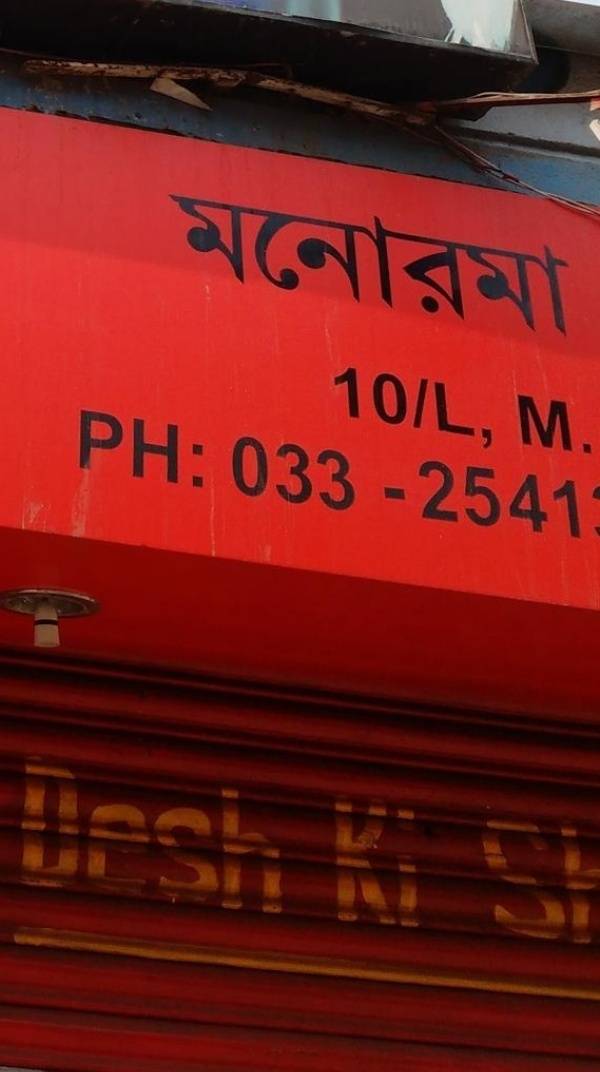text: (33, 758, 48, 929), (49, 758, 64, 929), (65, 758, 80, 929), (81, 758, 96, 929), (97, 758, 112, 929), (113, 758, 128, 929), (129, 758, 144, 929), (145, 758, 160, 929), (161, 758, 176, 929), (177, 758, 192, 929), (193, 758, 208, 929), (209, 758, 224, 929), (225, 758, 240, 929), (241, 758, 256, 929), (257, 758, 272, 929), (273, 758, 288, 929), (177, 184, 192, 340), (193, 184, 208, 340), (209, 184, 224, 340), (225, 184, 240, 340), (241, 184, 256, 340), (257, 184, 272, 340), (273, 184, 288, 340), (289, 184, 304, 340), (305, 184, 320, 340), (321, 184, 336, 340), (337, 184, 352, 340), (353, 184, 368, 340), (369, 184, 384, 340), (385, 184, 400, 340), (401, 184, 416, 340), (417, 184, 432, 340), (433, 184, 448, 340), (449, 184, 464, 340), (465, 184, 480, 340), (481, 184, 496, 340), (497, 184, 512, 340), (513, 184, 528, 340), (529, 184, 544, 340), (545, 184, 560, 340), (561, 184, 576, 340), (337, 798, 352, 937), (353, 798, 368, 937), (369, 798, 384, 937), (385, 798, 400, 937), (401, 798, 416, 937), (481, 814, 496, 946), (497, 814, 512, 946), (513, 814, 528, 946), (529, 814, 544, 946), (545, 814, 560, 946), (561, 814, 576, 946), (577, 814, 592, 946), (167, 184, 176, 340), (337, 363, 352, 455), (353, 363, 368, 455), (369, 363, 384, 455), (385, 363, 400, 455), (401, 363, 416, 455), (417, 363, 432, 455), (433, 363, 448, 455), (449, 363, 464, 455), (465, 363, 480, 455), (481, 363, 496, 455), (81, 405, 96, 490), (97, 405, 112, 490), (113, 405, 128, 490), (129, 405, 144, 490), (145, 405, 160, 490), (161, 405, 176, 490), (177, 405, 192, 490), (433, 457, 448, 541), (449, 457, 464, 541), (465, 457, 480, 541), (481, 457, 496, 541), (497, 457, 512, 541), (513, 457, 528, 541), (529, 457, 544, 541), (545, 457, 560, 541), (561, 457, 576, 541), (241, 432, 256, 515), (257, 432, 272, 515), (273, 432, 288, 515), (289, 432, 304, 515), (305, 432, 320, 515), (321, 432, 336, 515), (337, 432, 352, 515), (25, 758, 32, 929), (418, 457, 432, 541), (417, 798, 425, 937), (577, 184, 584, 340), (289, 758, 295, 929), (193, 405, 205, 490), (529, 392, 544, 458), (545, 392, 560, 458), (561, 392, 576, 458), (577, 392, 592, 458), (515, 392, 528, 458), (577, 457, 587, 541), (353, 432, 363, 515), (593, 814, 599, 946), (74, 405, 80, 490), (333, 798, 336, 937), (235, 432, 240, 515), (593, 478, 599, 540), (332, 363, 336, 455), (478, 814, 480, 946), (385, 486, 400, 503), (588, 478, 592, 540), (497, 363, 499, 455), (401, 486, 405, 503), (593, 392, 594, 458), (382, 486, 384, 503)
